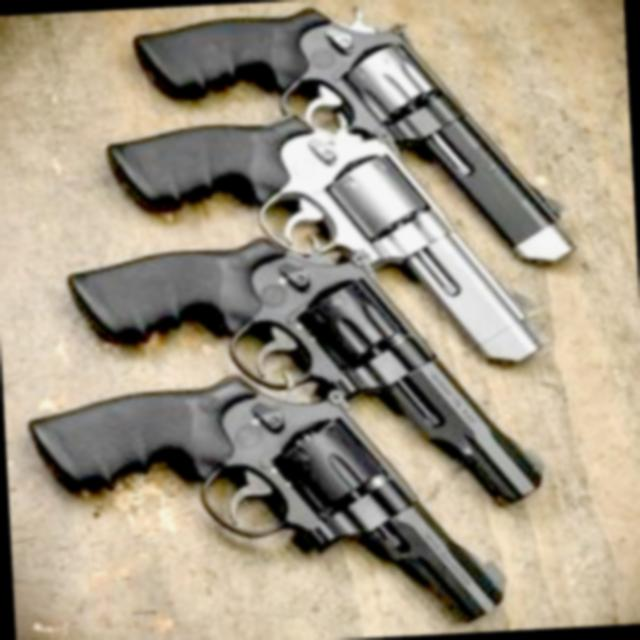revolver: (0, 0, 629, 631)
